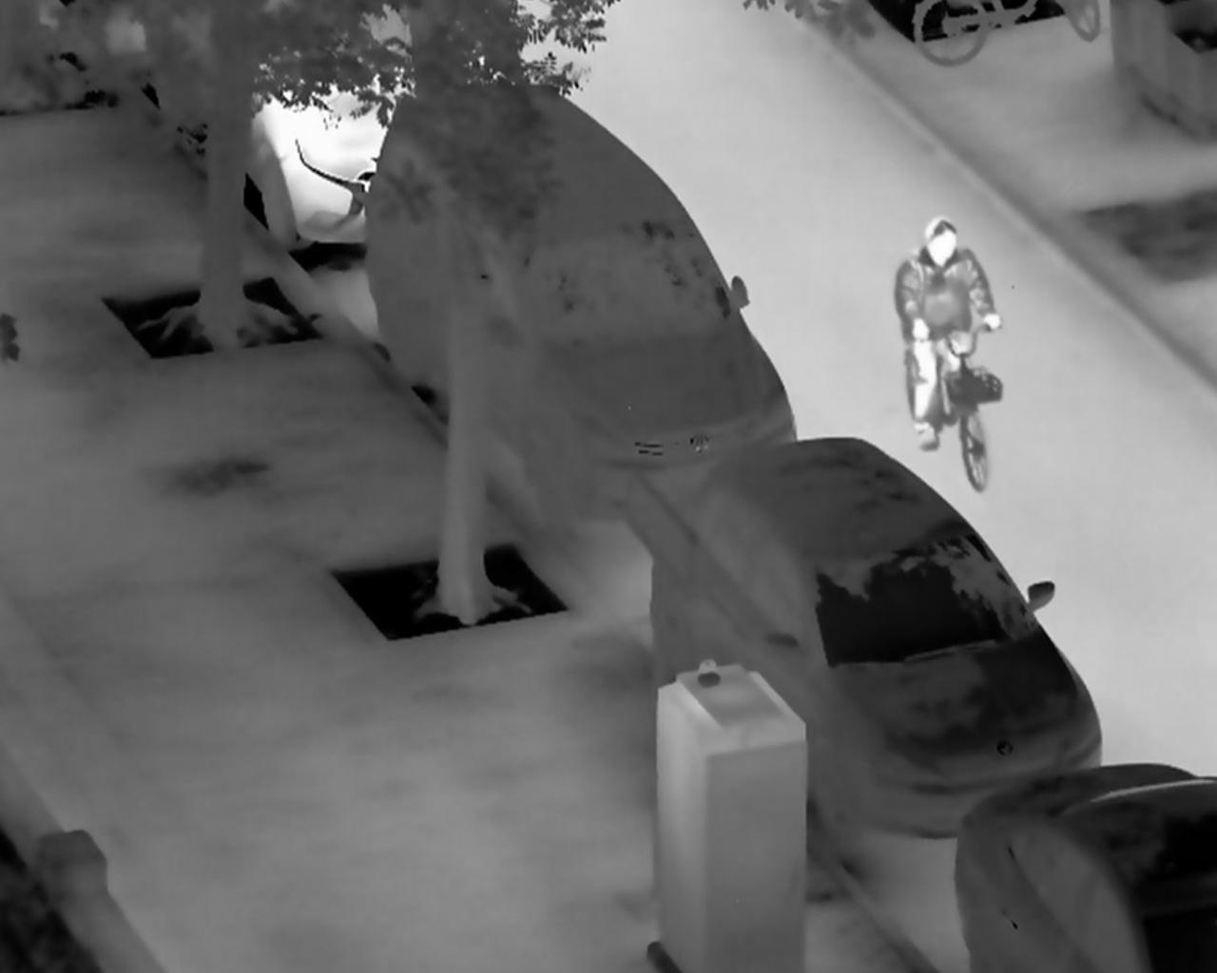person: (895, 214, 1002, 452)
